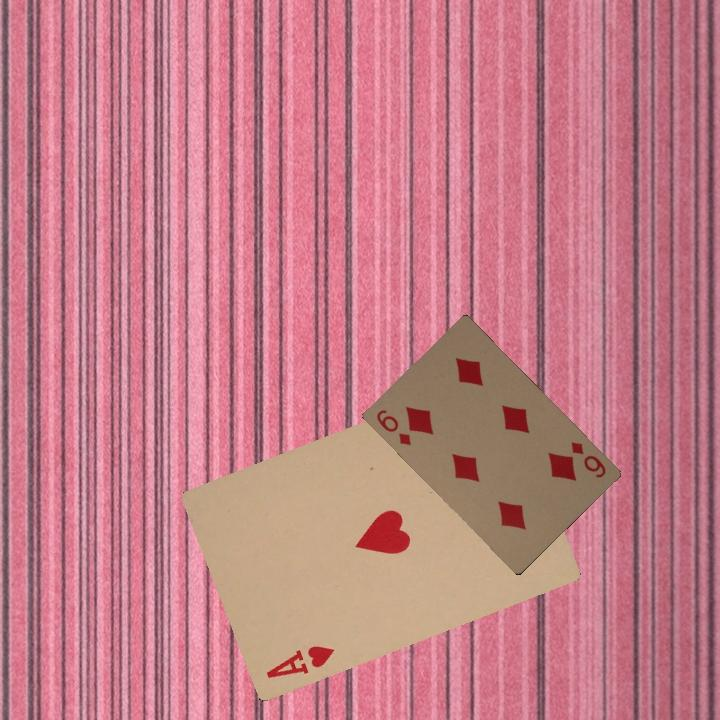6d: (372, 405, 414, 448), (567, 437, 608, 480)
Ah: (262, 641, 337, 681)
